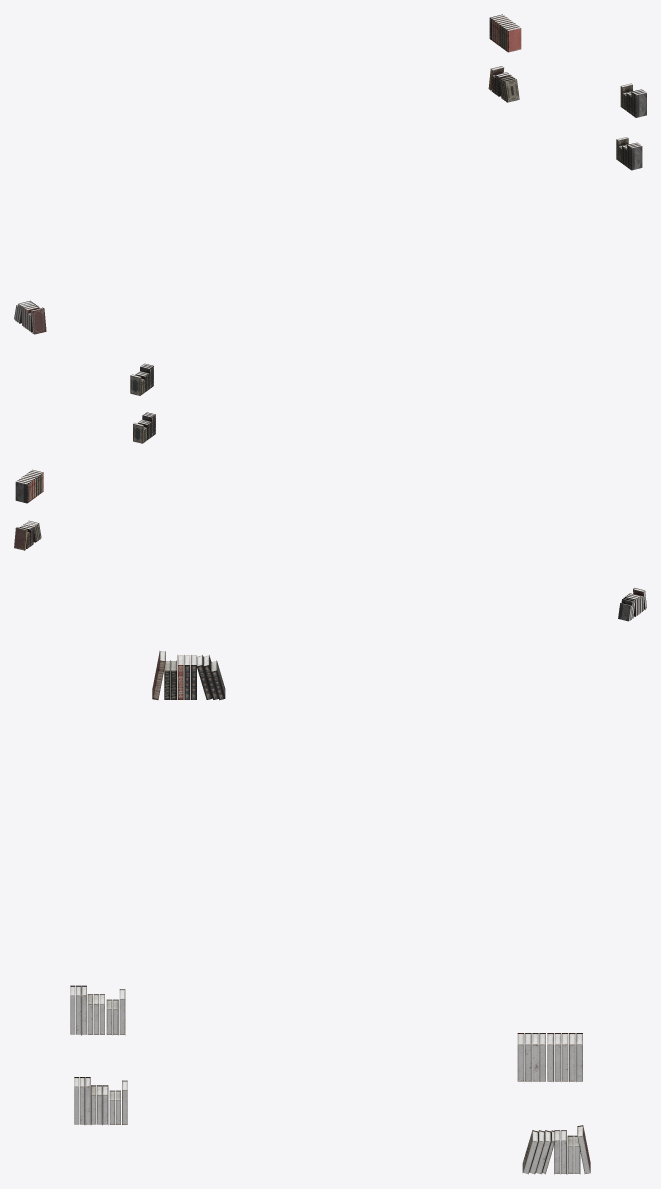
Rendered from CR04_Books.FBX.
The picture shows the model from 3 angles, top to bottom: view 1: azimuth 30°, elevation 25°; view 2: azimuth 150°, elevation 25°; view 3: azimuth 270°, elevation 25°; orthographic projection. The views are drawn at different scales.
Parts seen in each view (by area): view 1: Wallshelf01_BookSet_01, Wallshelf01_BookSet_10, Wallshelf01_BookSet_02, Wallshelf01_BookSet_13, Wallshelf01_BookSet_05; view 2: Wallshelf01_BookSet_01, Wallshelf01_BookSet_10, Wallshelf01_BookSet_02, Wallshelf01_BookSet_13, Wallshelf01_BookSet_05; view 3: Wallshelf01_BookSet_01, Wallshelf01_BookSet_10, Wallshelf01_BookSet_02, Wallshelf01_BookSet_13, Wallshelf01_BookSet_05.
Part boxes in pixels (<box>): Wallshelf01_BookSet_01: <box>489,14,521,52</box>; Wallshelf01_BookSet_10: <box>14,300,46,334</box>; Wallshelf01_BookSet_02: <box>488,66,519,102</box>; Wallshelf01_BookSet_13: <box>620,83,646,117</box>; Wallshelf01_BookSet_05: <box>616,137,642,170</box>; Wallshelf01_BookSet_01: <box>15,469,43,503</box>; Wallshelf01_BookSet_10: <box>618,588,646,621</box>; Wallshelf01_BookSet_02: <box>14,520,41,550</box>; Wallshelf01_BookSet_13: <box>130,363,153,395</box>; Wallshelf01_BookSet_05: <box>133,412,155,443</box>; Wallshelf01_BookSet_01: <box>517,1033,582,1081</box>; Wallshelf01_BookSet_10: <box>152,651,225,700</box>; Wallshelf01_BookSet_02: <box>522,1125,590,1174</box>; Wallshelf01_BookSet_13: <box>70,985,125,1035</box>; Wallshelf01_BookSet_05: <box>74,1077,127,1125</box>.
Size of the model in its own units: 7807 by 1463 by 3361.
